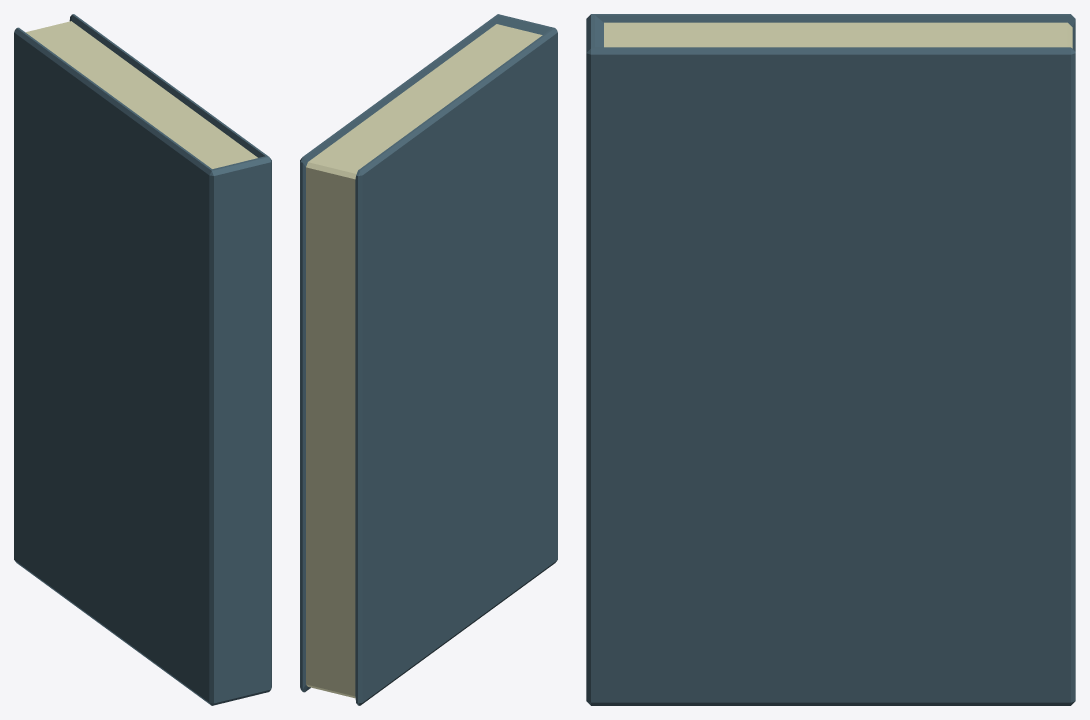
File: BOOK_06.fbx
3 views of the same model, side by side, from view 1: azimuth 30°, elevation 25°; view 2: azimuth 150°, elevation 25°; view 3: azimuth 270°, elevation 25° (orthographic). The views are drawn at different scales.
Visible parts, largest first — view 1: BOOK_06; view 2: BOOK_06; view 3: BOOK_06.
Boxes of the visible parts, left/top/right/bottom form: BOOK_06: left=14, top=14, right=271, bottom=705; BOOK_06: left=300, top=14, right=557, bottom=705; BOOK_06: left=586, top=14, right=1075, bottom=705.
Size of the model in its own units: 1.1 by 8.99 by 6.06.
